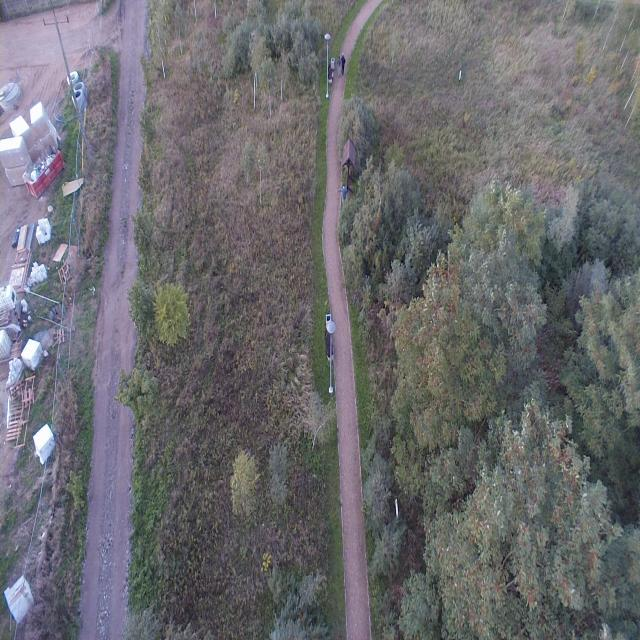p3rson: (335, 184, 348, 202), (341, 53, 345, 76), (337, 56, 341, 77)
